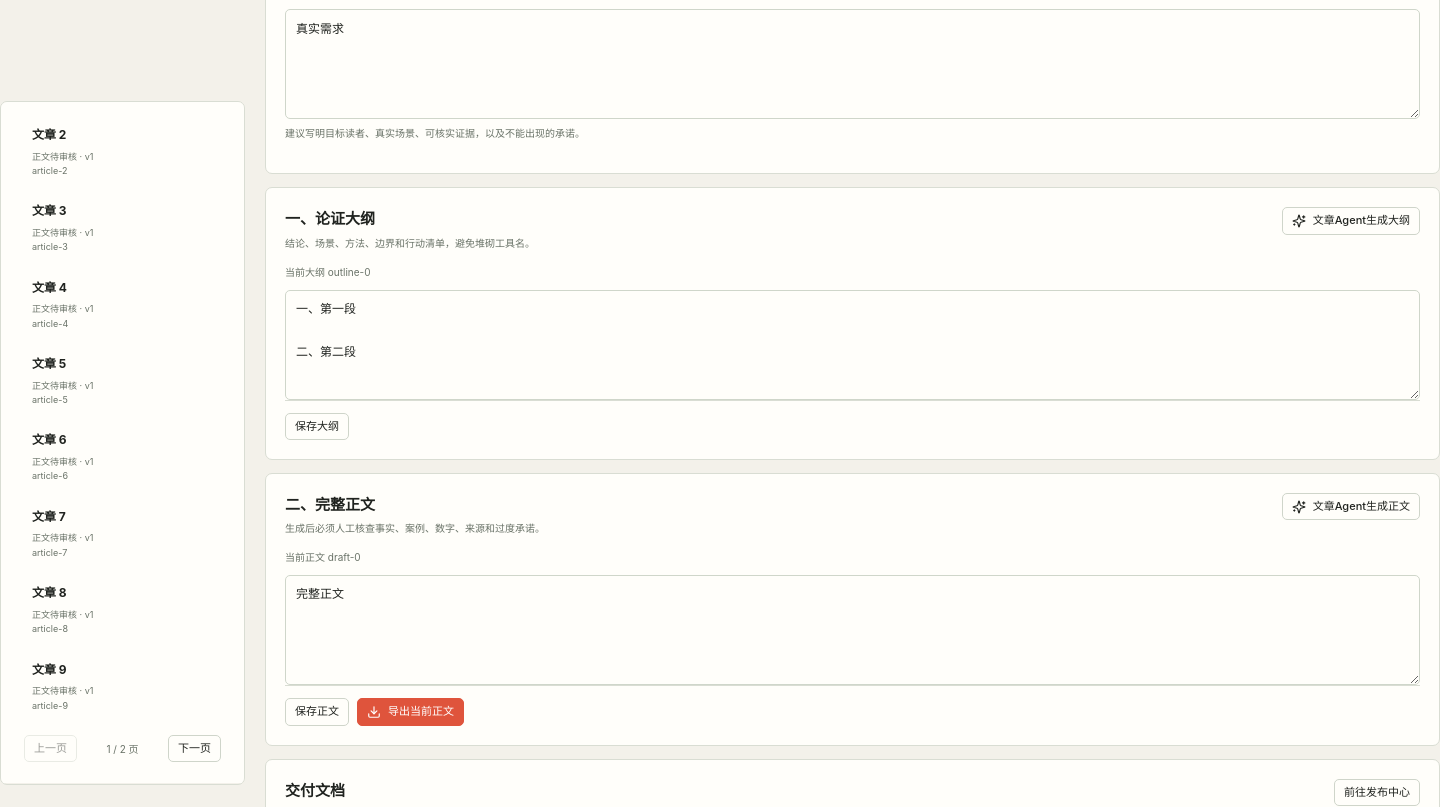
it: Articles delivery and pagination › keeps real exports in delivery and paginates the task list
(page scrolled)
Expected: the heading "交付文档" is shown, [285, 781, 345, 800]
Click the button "下一页".
click(194, 749)  # box [168, 735, 221, 762]
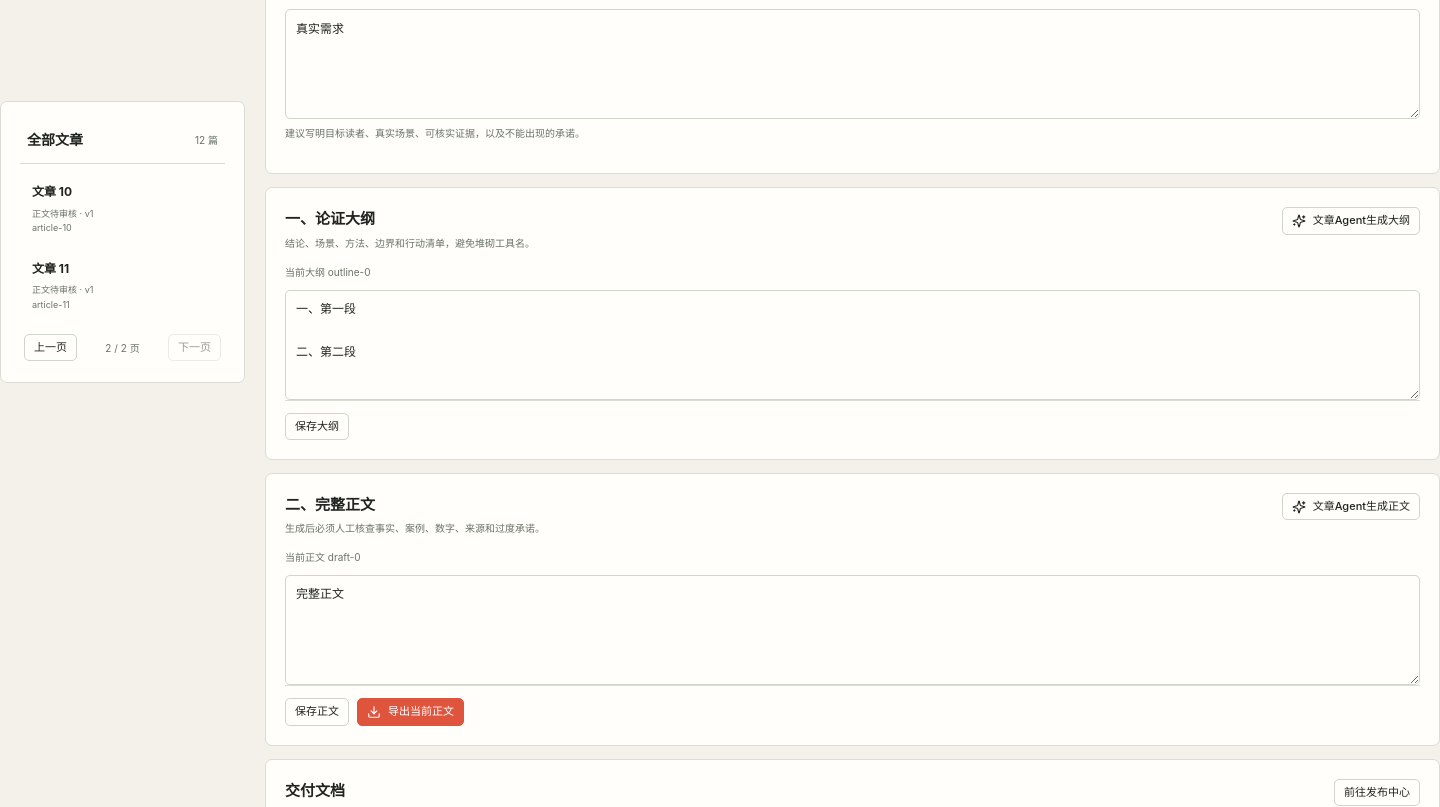
Expected: the text "2 / 2 页" is shown, [105, 340, 140, 356]
Expected: the text "文章 11" is shown, [32, 261, 69, 276]
